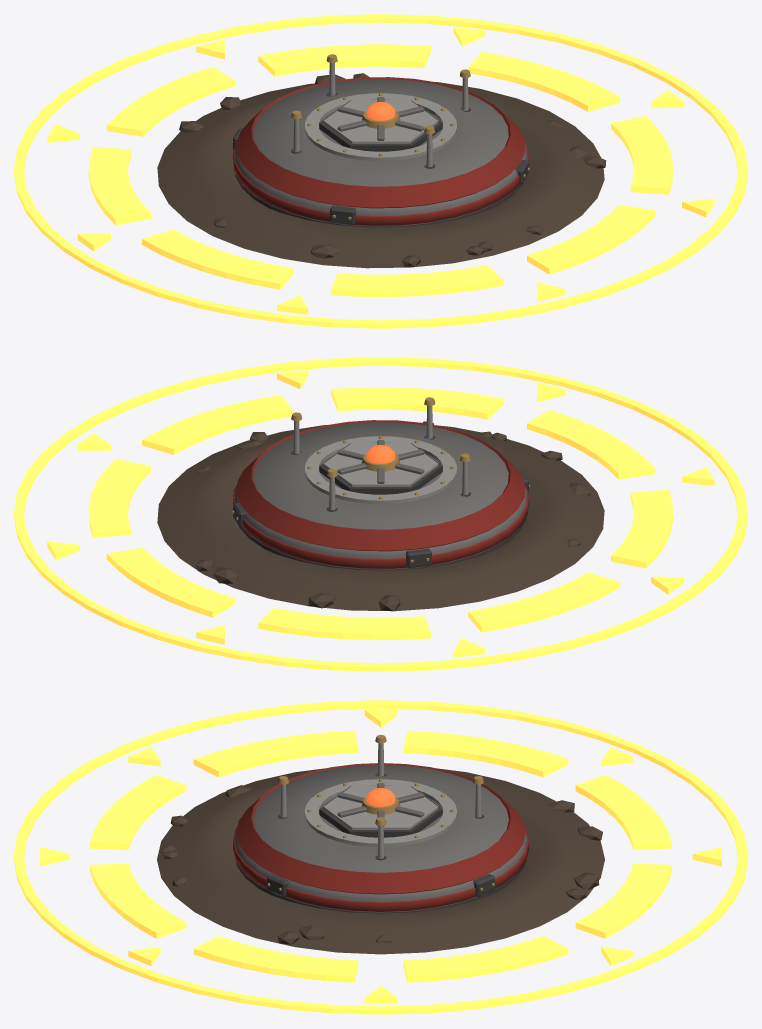
File: land_mine.glb
3 renders of one model, top to bottom at view 1: azimuth 30°, elevation 25°; view 2: azimuth 150°, elevation 25°; view 3: azimuth 270°, elevation 25°, orthographic.
Visible parts, largest first — view 1: mine_spotted, mine_soil, mine_body, mine_plate; view 2: mine_spotted, mine_soil, mine_body, mine_plate; view 3: mine_spotted, mine_soil, mine_body, mine_plate.
Boxes of the visible parts, x1,y1,x2,y2 form: mine_spotted: [14, 14, 747, 328]; mine_soil: [157, 73, 606, 268]; mine_body: [232, 77, 529, 227]; mine_plate: [319, 97, 442, 151]; mine_spotted: [14, 357, 747, 671]; mine_soil: [157, 421, 604, 611]; mine_body: [232, 420, 529, 570]; mine_plate: [319, 440, 442, 494]; mine_spotted: [14, 700, 747, 1014]; mine_soil: [157, 768, 604, 954]; mine_body: [233, 763, 528, 913]; mine_plate: [319, 783, 442, 837].
Size of the model in its own units: 2.26 by 0.2933 by 2.26.
